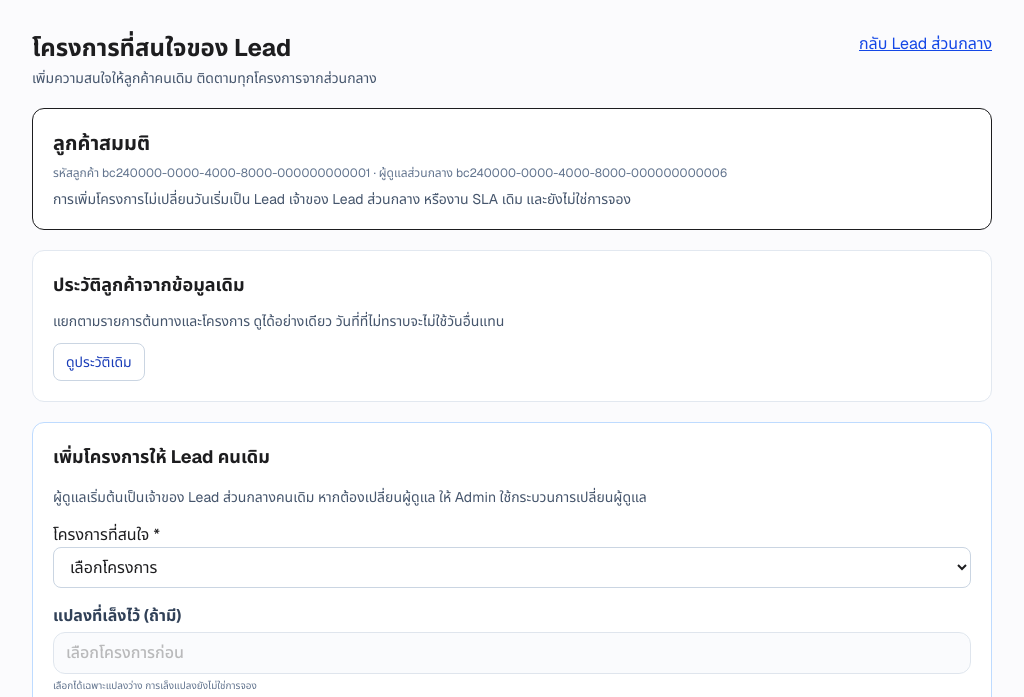
Test: opt-in historical customer evidence › opens customer-scoped history only on click without adding or booking an interest
This screenshot has width=1024, height=697.
Click the button "ดูประวัติเดิม" at (99, 362), box [53,343,145,381]
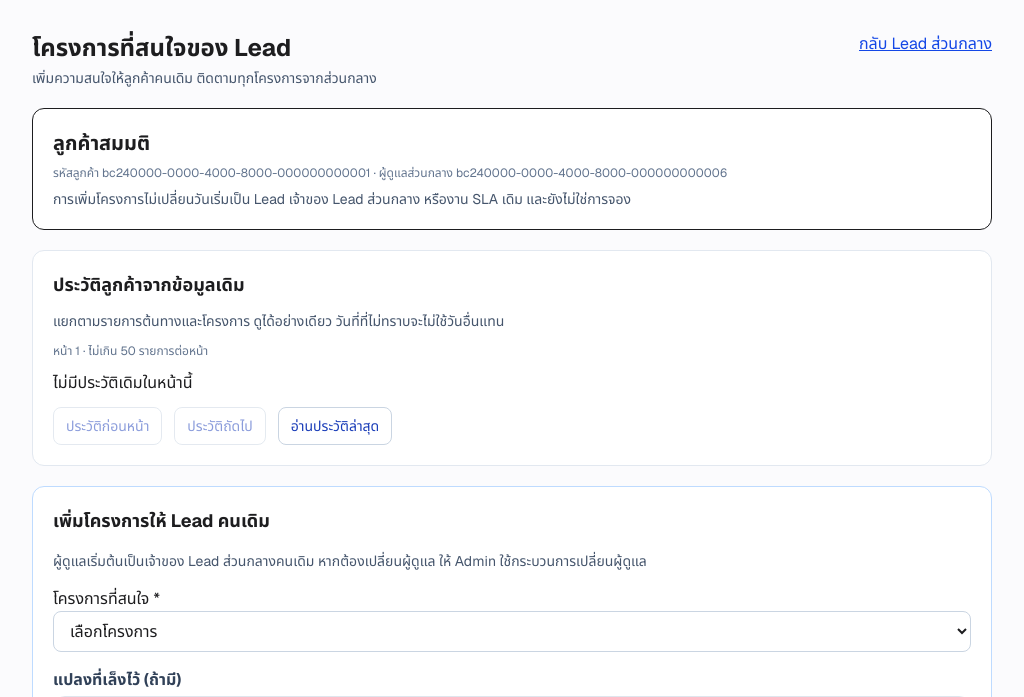
Expected: the text "ไม่มีประวัติเดิมในหน้านี้" is shown, [53,372,192,393]
